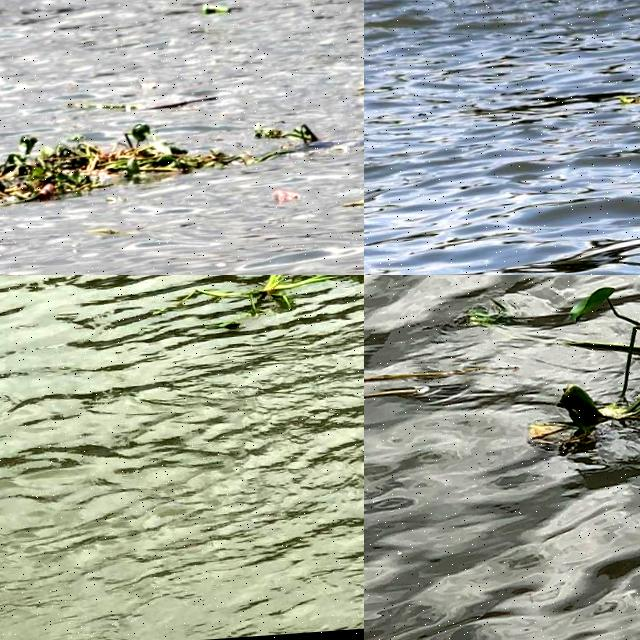water-hyacinth: (518, 276, 640, 476), (1, 116, 239, 210), (170, 276, 365, 321), (233, 111, 328, 171)
